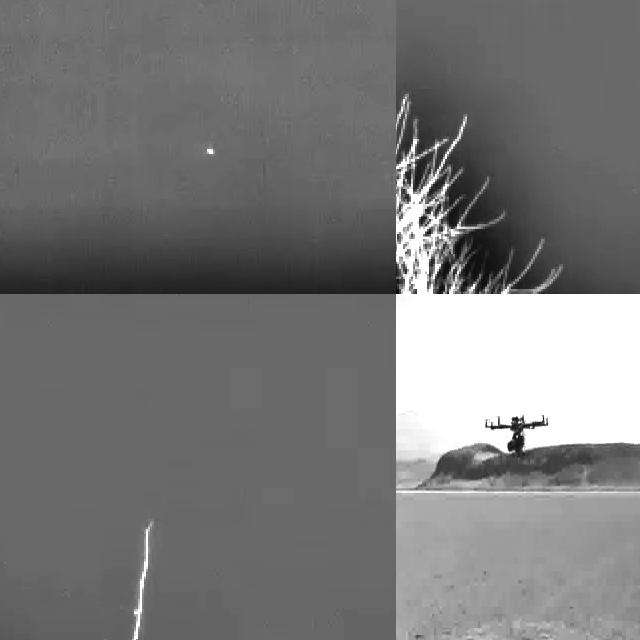0: (126, 604, 146, 624)
1: (202, 140, 228, 168)
drone: (484, 412, 552, 453)
